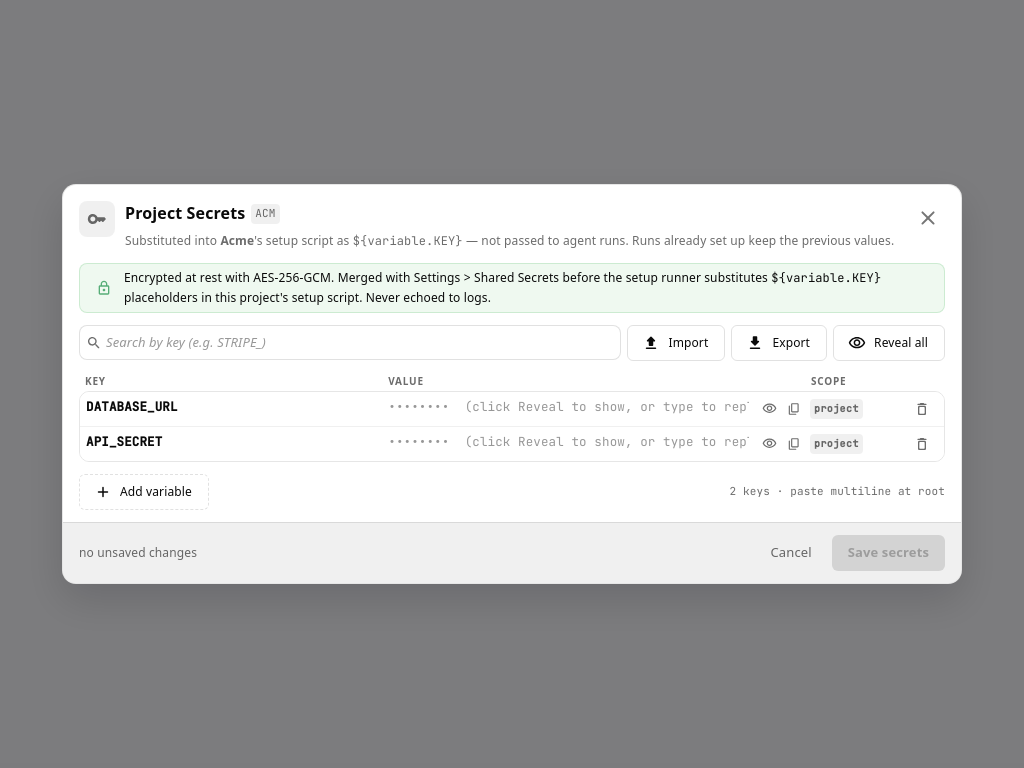
ProjectEnvSecretsModal — revealing stored secrets › Reveal all decrypts every stored row
Expected: the 1st field showing "DATABASE_URL" is shown, [86, 397, 384, 421]
Click the button "Reveal all". click: [889, 343]
box: [833, 325, 945, 361]
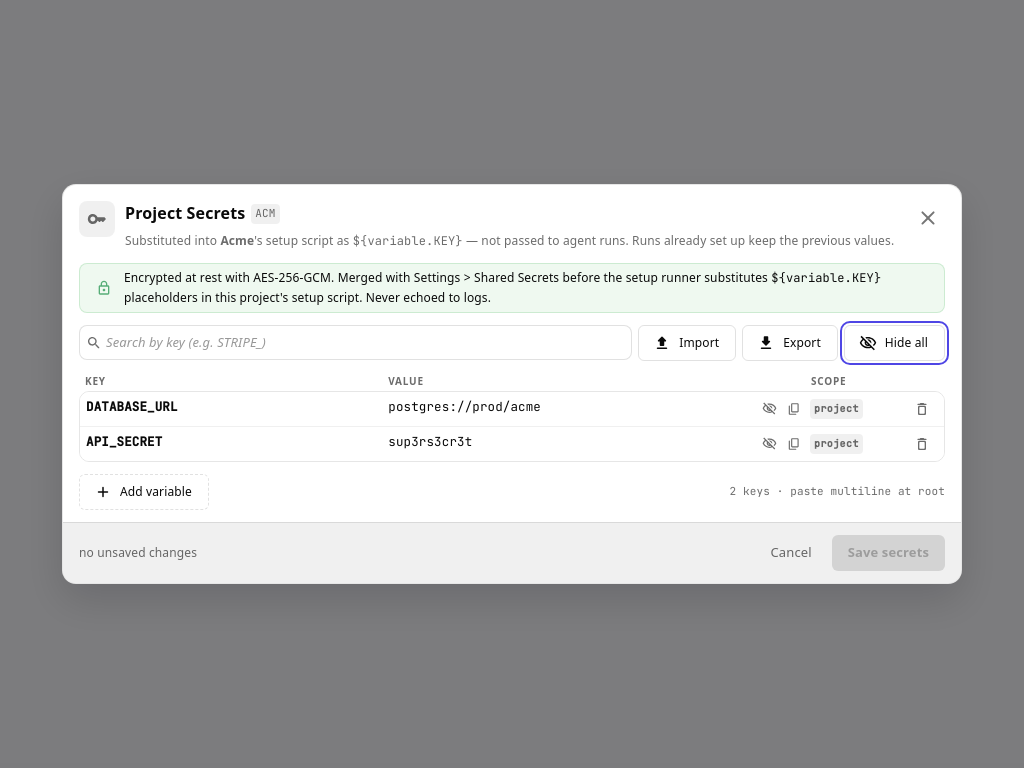
Now the 2nd field showing "postgres://prod/acme" is shown, box [388, 397, 749, 421]
Now the 4th field showing "sup3rs3cr3t" is shown, box [388, 432, 749, 456]
